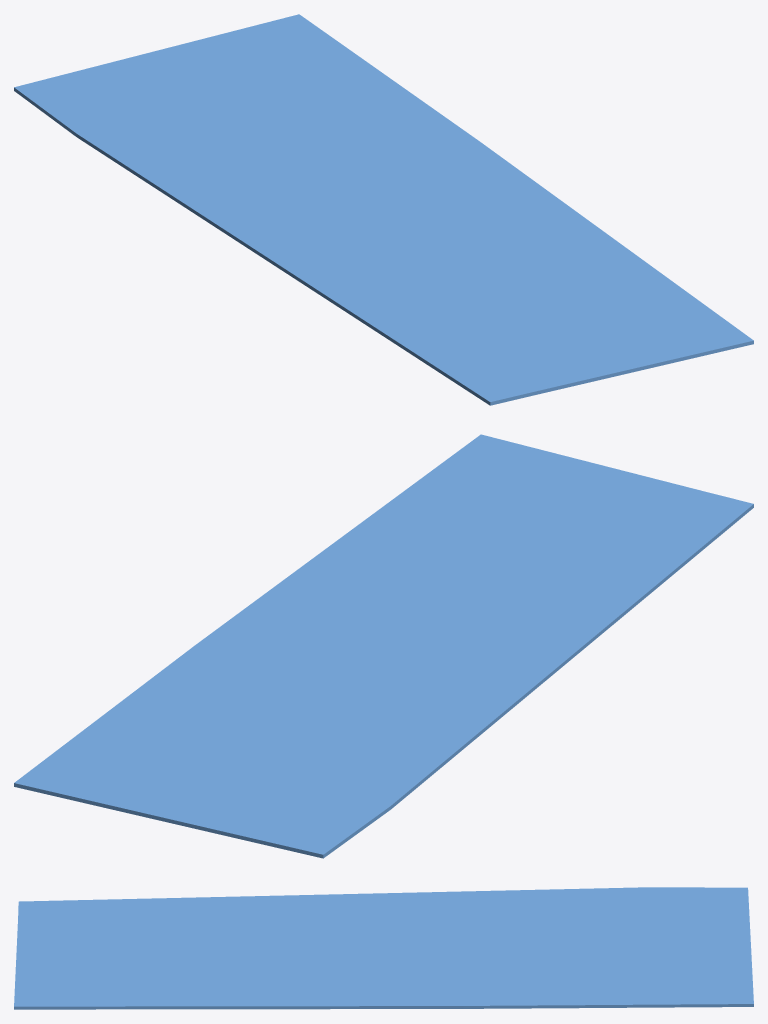
The picture shows the model from 3 angles, top to bottom: view 1: azimuth 30°, elevation 25°; view 2: azimuth 150°, elevation 25°; view 3: azimuth 270°, elevation 25°; orthographic projection. The views are drawn at different scales.
Size of the model in its own units: 264 by 3.05 by 691.
